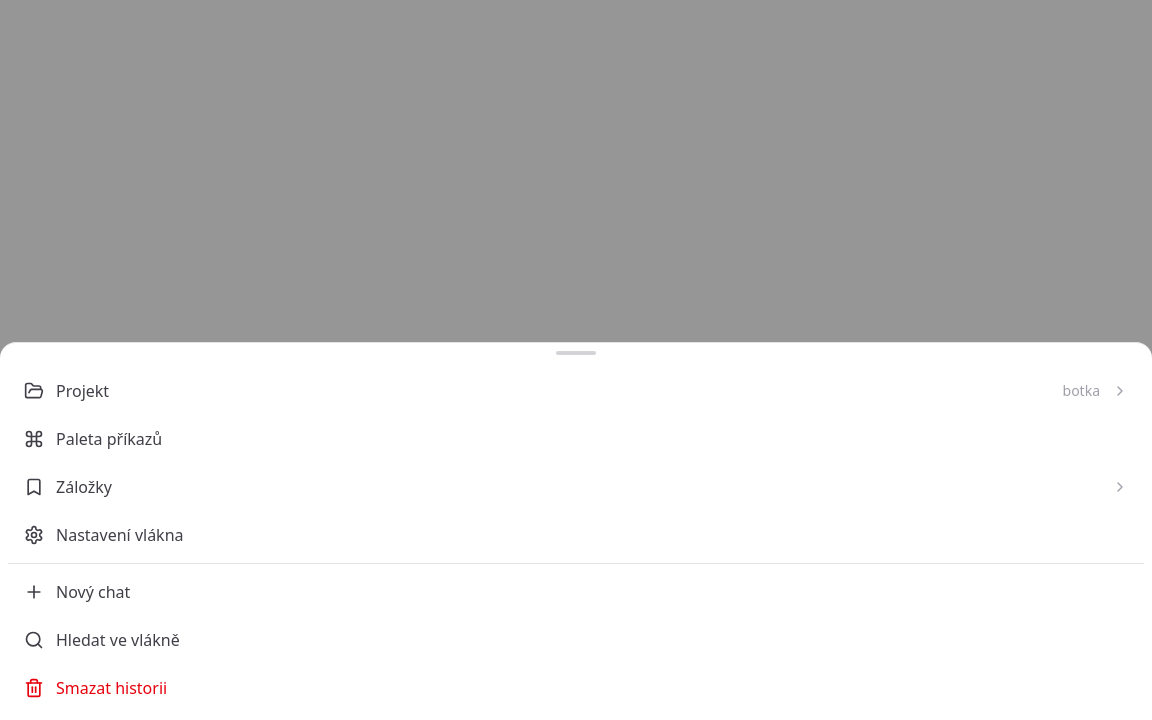
MobileChatMenu › shows the bookmarks list as a sub-view with a way back
The image size is (1152, 720).
Click the button "Záložky" at (84, 487), box [8,463,1144,511]
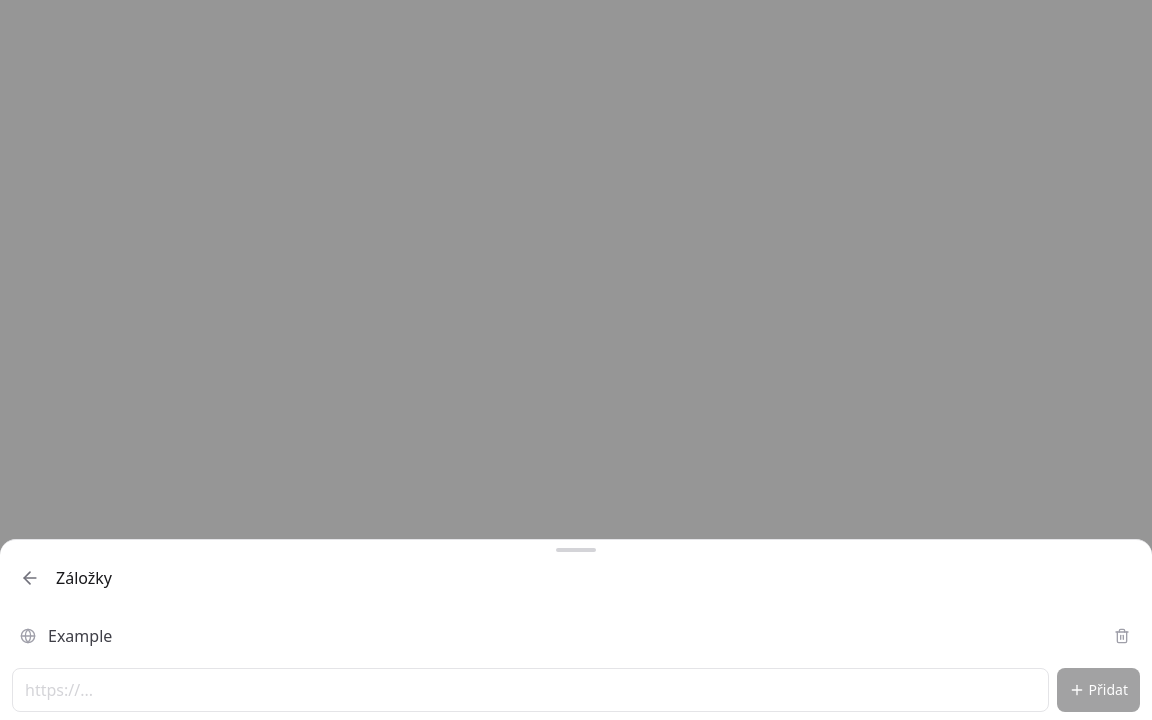
Result: the text "Example" is shown at [48,624,112,648]
Click the button named "Zpět" at (30, 578), box [8,556,52,600]
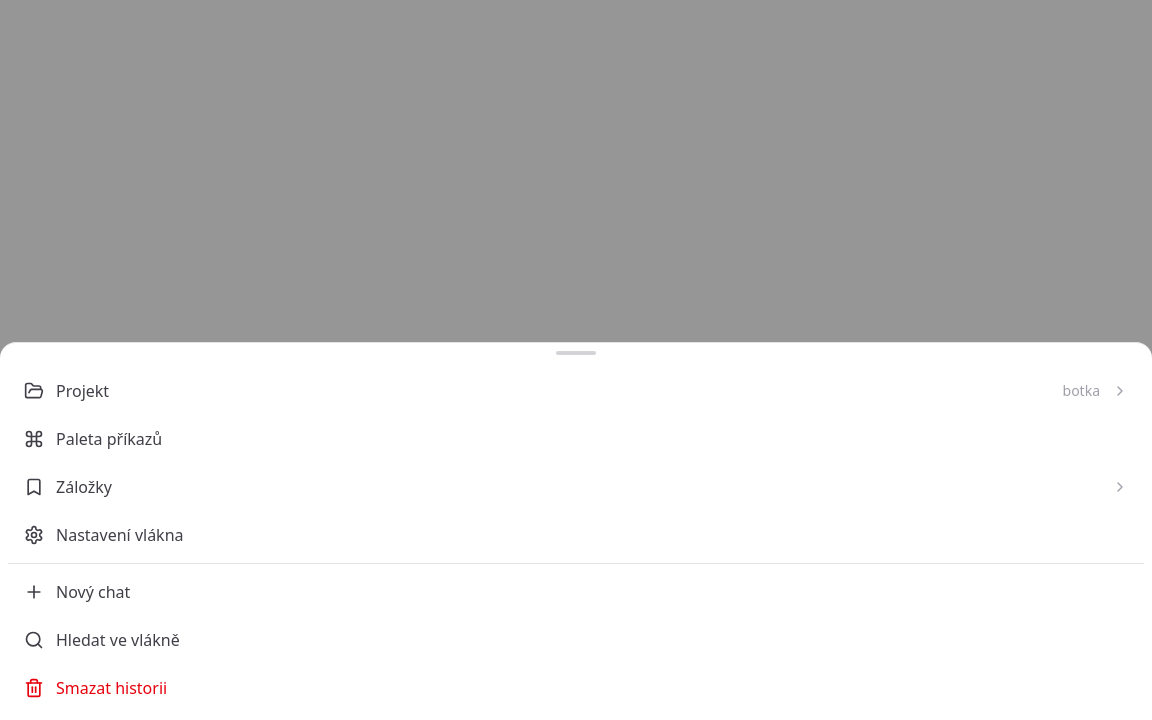
Result: the text "Paleta příkazů" is shown at [56,428,162,450]
